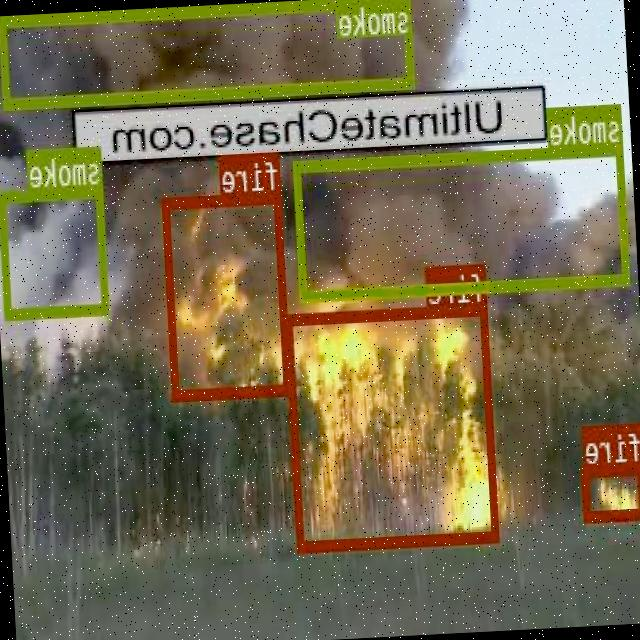fire: (286, 304, 500, 550), (164, 190, 293, 400), (583, 462, 640, 520)
smoke: (294, 142, 631, 300), (0, 0, 415, 106), (0, 184, 111, 318)
